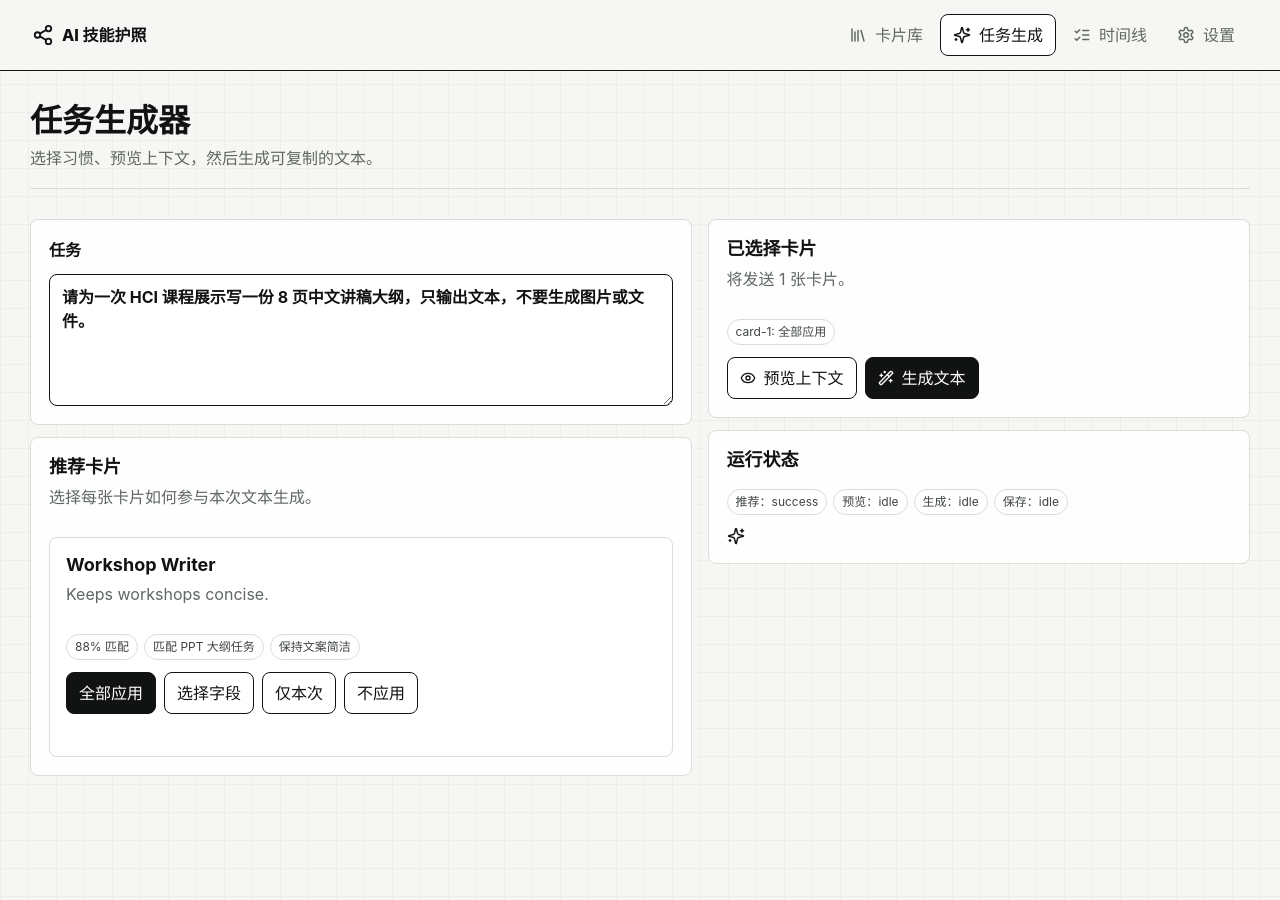
it: App › loads task recommendations and previews a query-selected card with all fields
The width and height of the screenshot is (1280, 900).
expect the heading "Workshop Writer" is shown: met, box x1=66 y1=554 x2=216 y2=575
expect the text box showing "请为一次 HCI 课程展示写一份 8 页中文讲稿大纲，只输出文本，不要生成图片或文件。" is shown: met, box x1=49 y1=274 x2=672 y2=406
Click the button "预览上下文": [792, 378] box x1=726 y1=357 x2=856 y2=399
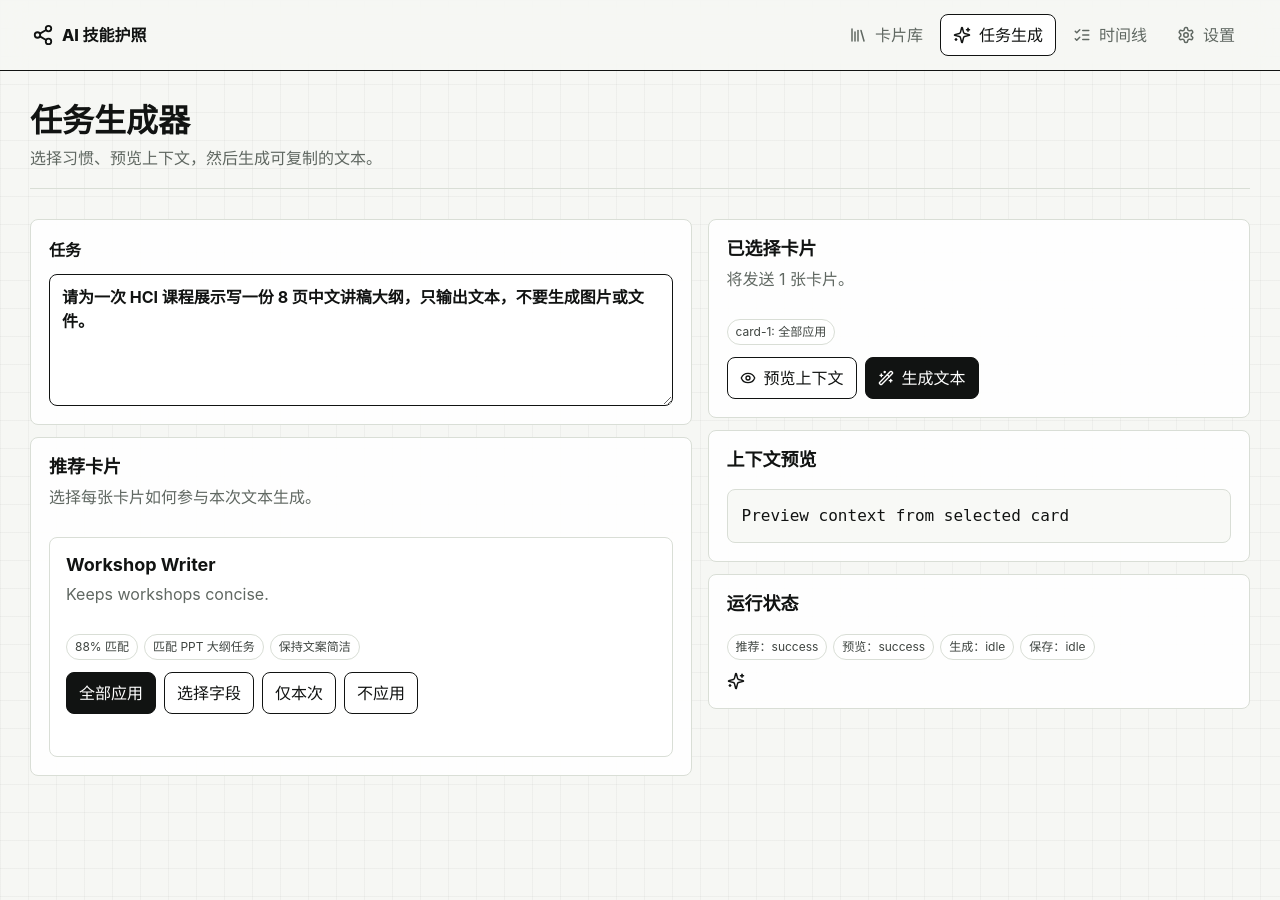
expect the text "Preview context from selected card" is shown: met, box x1=726 y1=489 x2=1231 y2=543
